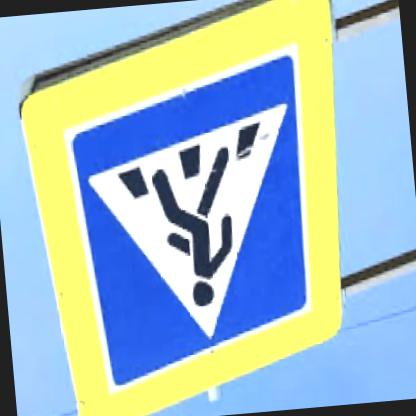crosswalk: (64, 51, 325, 396)
